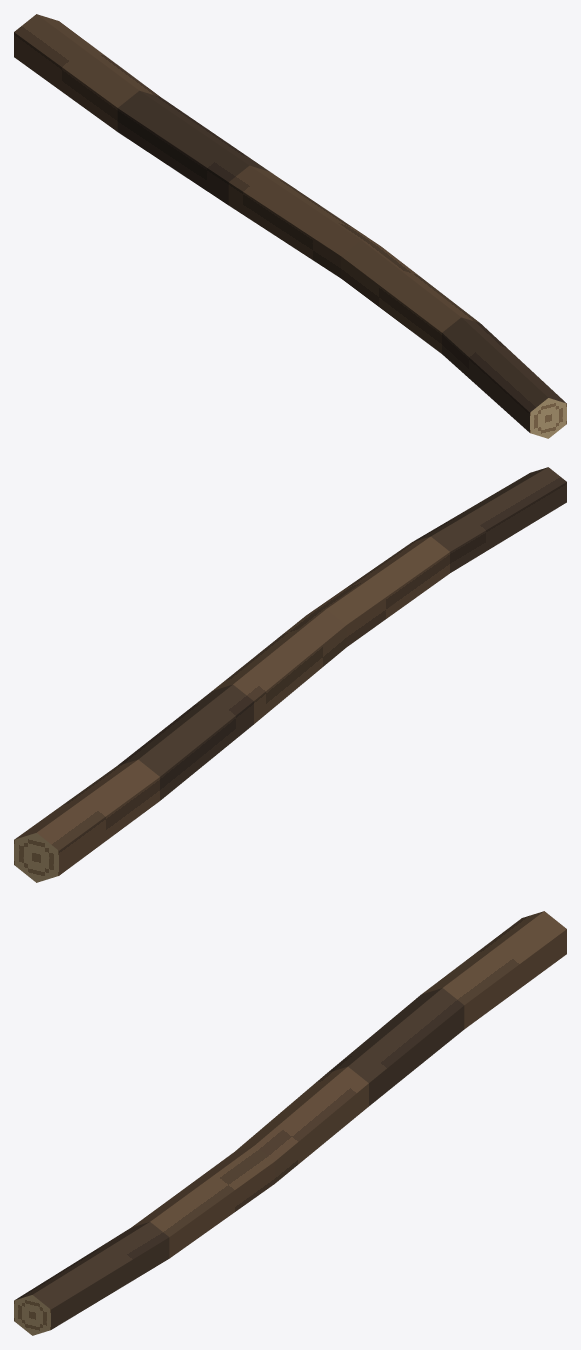
File: fire_stick.glb
3 renders of one model, top to bottom at view 1: azimuth 30°, elevation 25°; view 2: azimuth 150°, elevation 25°; view 3: azimuth 330°, elevation 25°, orthographic.
Parts seen in each view (by area): view 1: FIRE_STICK; view 2: FIRE_STICK; view 3: FIRE_STICK.
Boxes of the visible parts, x1,y1,x2,y2 form: FIRE_STICK: [14, 14, 566, 438]; FIRE_STICK: [14, 467, 566, 882]; FIRE_STICK: [14, 911, 566, 1335].
Size of the model in its own units: 0.0311 by 0.0248 by 0.46.
1 material, 1 textured.
